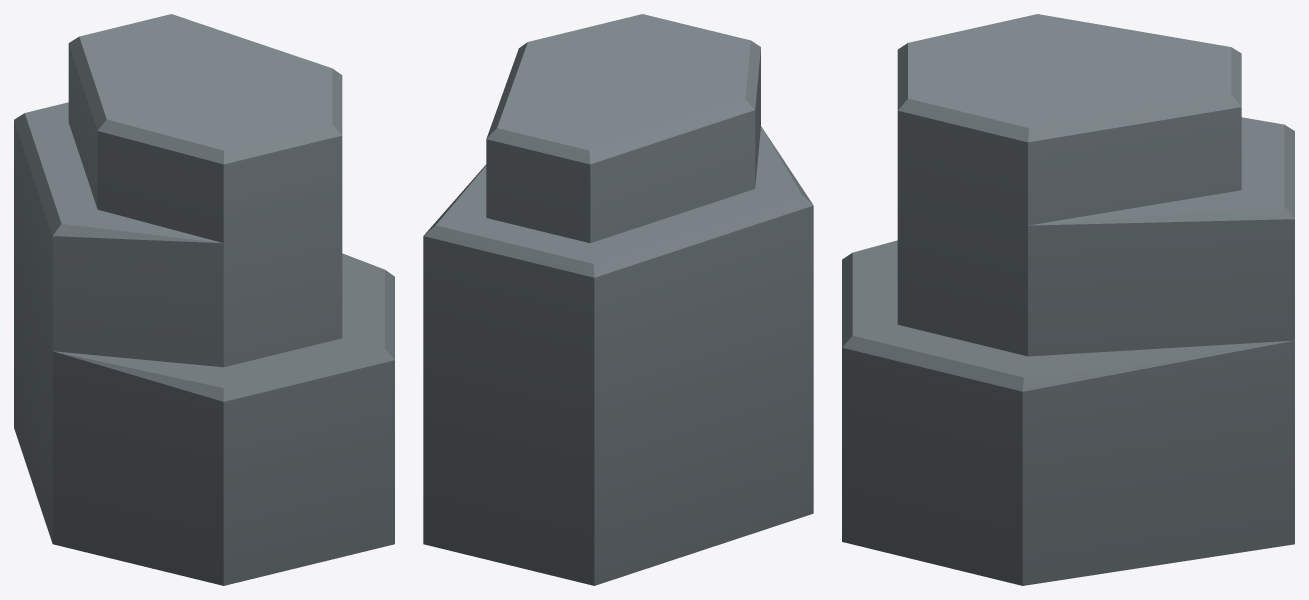
File: kf_rock_1_e.fbx
The picture shows the model from 3 angles, left to right: view 1: azimuth 30°, elevation 25°; view 2: azimuth 150°, elevation 25°; view 3: azimuth 270°, elevation 25°; orthographic projection. The views are drawn at different scales.
Parts seen in each view (by area): view 1: kf_rock_1_e; view 2: kf_rock_1_e; view 3: kf_rock_1_e.
Boxes of the visible parts, bbox=[...] form: kf_rock_1_e: bbox=[14, 14, 394, 585]; kf_rock_1_e: bbox=[423, 14, 813, 585]; kf_rock_1_e: bbox=[842, 14, 1294, 585].
Bounding box in the file's own units: 2.4 × 2.71 × 2.6.
